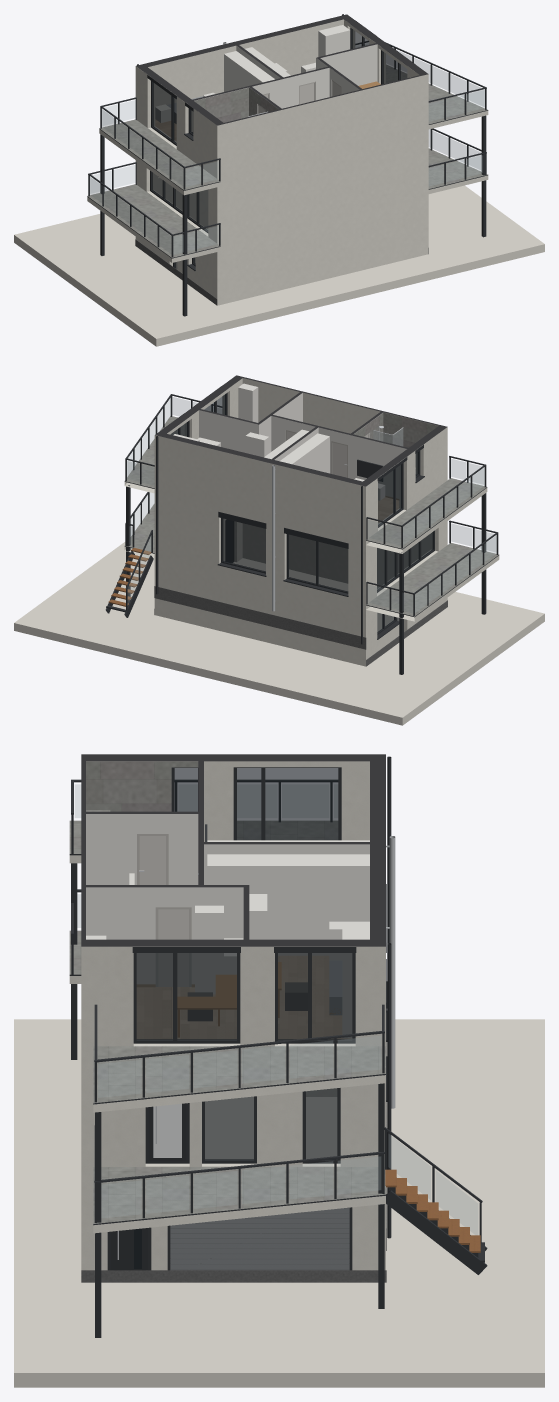
Rendered from dum_b_2np.glb.
3 views of the same model, one above another, from view 1: azimuth 30°, elevation 25°; view 2: azimuth 150°, elevation 25°; view 3: azimuth 270°, elevation 25° (orthographic). The views are drawn at different scales.
Parts seen in each view (by area): view 1: B_ext_omitka, podstava, B_ext_dlazba_balkon, B_ext_sklo_zabradli, B_ext_antracit, B_int_omitka_int, rez_sten, B_sklo_sklo, pevne_obklad, skrin_loznice, skrin_pokoj_S, B_ext_sokl (+1 smaller); view 2: B_ext_omitka, podstava, B_ext_antracit, B_ext_dlazba_balkon, B_sklo_sklo, B_ext_sklo_zabradli, B_int_omitka_int, rez_sten, B_ext_sokl, pevne_obklad, skrin_loznice, skrin_pokoj_J (+4 smaller); view 3: podstava, B_ext_omitka, B_sklo_sklo, B_ext_dlazba_balkon, B_ext_antracit, B_ext_sklo_zabradli, B_int_omitka_int, rez_sten, skrin_pokoj_S_satna, B_ext_vrata, pevne_vinyl, pevne_obklad (+11 smaller).
Boxes of the visible parts, bbox=[...] form: B_ext_omitka: bbox=[87, 19, 488, 305]; podstava: bbox=[14, 185, 544, 346]; B_ext_dlazba_balkon: bbox=[87, 64, 487, 257]; B_ext_sklo_zabradli: bbox=[90, 50, 484, 254]; B_ext_antracit: bbox=[87, 14, 488, 316]; B_int_omitka_int: bbox=[194, 44, 377, 113]; rez_sten: bbox=[136, 14, 428, 125]; B_sklo_sklo: bbox=[152, 29, 407, 268]; pevne_obklad: bbox=[194, 87, 278, 122]; skrin_loznice: bbox=[224, 51, 274, 91]; skrin_pokoj_S: bbox=[318, 25, 350, 56]; B_ext_sokl: bbox=[135, 239, 428, 305]; B_ext_omitka: bbox=[124, 378, 499, 666]; podstava: bbox=[14, 542, 544, 725]; B_ext_antracit: bbox=[105, 390, 498, 674]; B_ext_dlazba_balkon: bbox=[124, 416, 498, 616]; B_sklo_sklo: bbox=[171, 394, 433, 632]; B_ext_sklo_zabradli: bbox=[127, 397, 496, 612]; B_int_omitka_int: bbox=[199, 393, 406, 498]; rez_sten: bbox=[155, 375, 447, 486]; B_ext_sokl: bbox=[154, 586, 447, 666]; pevne_obklad: bbox=[354, 412, 438, 447]; skrin_loznice: bbox=[280, 433, 329, 473]; skrin_pokoj_J: bbox=[238, 383, 258, 422]; podstava: bbox=[14, 1019, 544, 1387]; B_ext_omitka: bbox=[69, 761, 385, 1270]; B_sklo_sklo: bbox=[134, 768, 352, 1268]; B_ext_dlazba_balkon: bbox=[69, 820, 385, 1223]; B_ext_antracit: bbox=[69, 756, 487, 1337]; B_ext_sklo_zabradli: bbox=[75, 784, 477, 1234]; B_int_omitka_int: bbox=[86, 814, 369, 983]; rez_sten: bbox=[81, 754, 385, 946]; skrin_pokoj_S_satna: bbox=[207, 854, 369, 955]; B_ext_vrata: bbox=[170, 1207, 349, 1270]; pevne_vinyl: bbox=[137, 956, 351, 1038]; pevne_obklad: bbox=[86, 761, 198, 811].
Size of the model in its own units: 18.6 by 8.62 by 11.8.
Materials: 32 (8 with a texture image).
